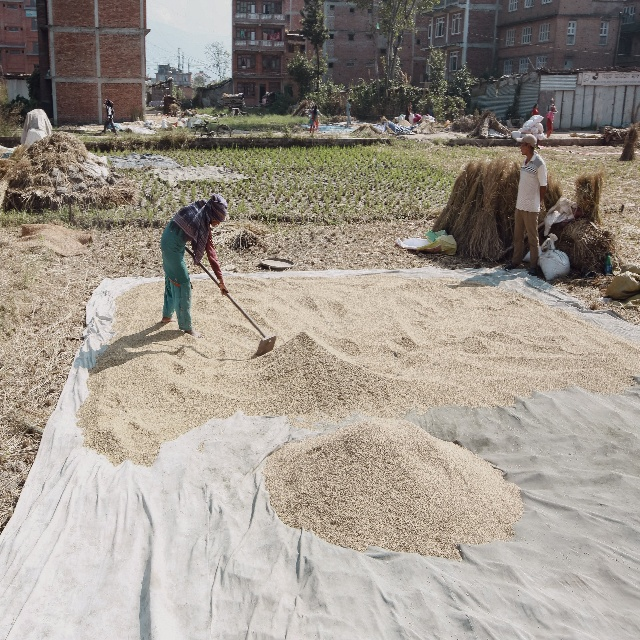Guantes: (219, 281, 229, 296), (193, 257, 200, 267)
